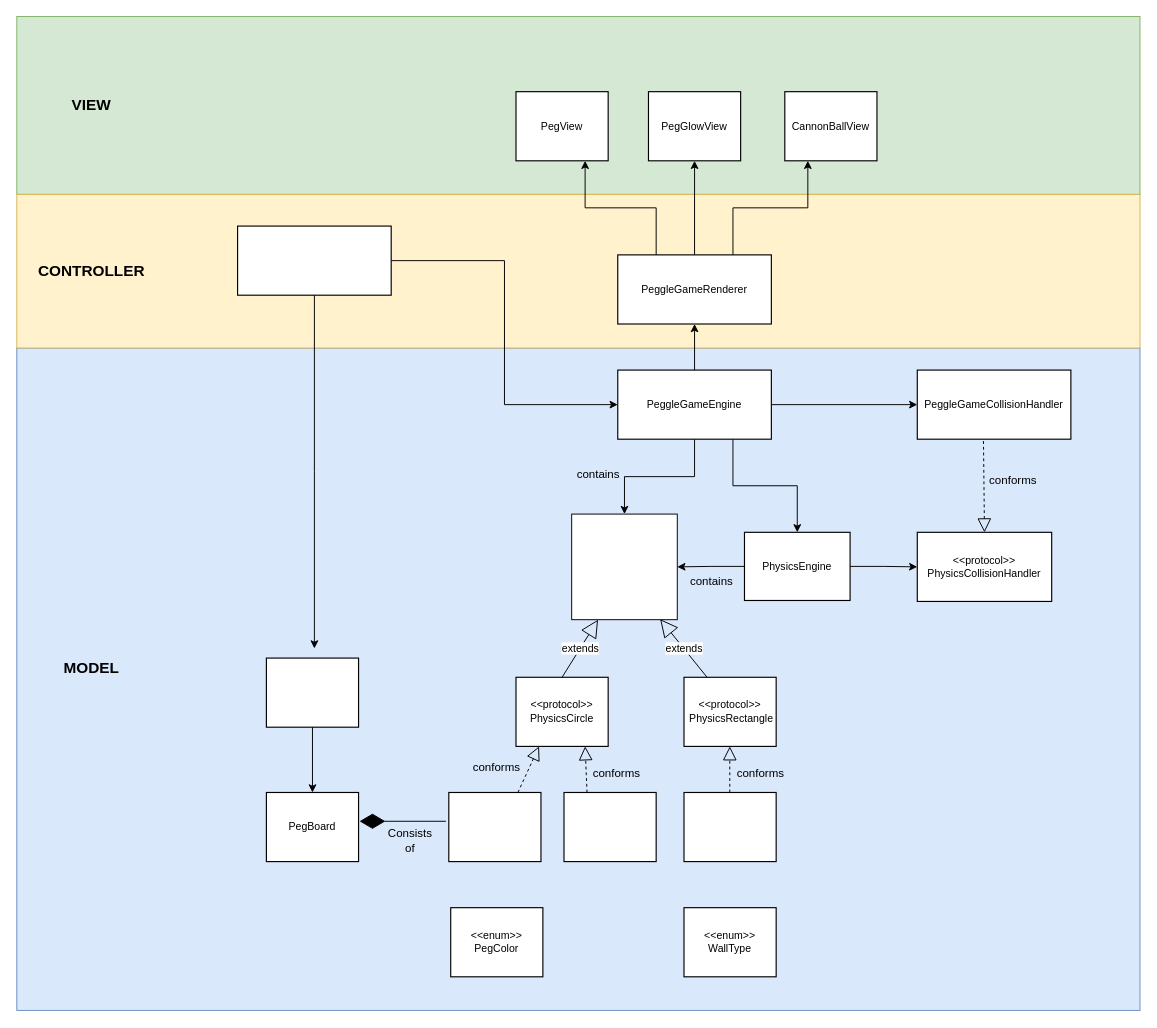
The diagram is 1157 pixels wide and 1028 high, and some of its shapes have lost their labels. The shapes that lost their labels are listed below. From the top down, each one's centre as x and y in pixels, then its label:
At point (314, 260): "PeggleGameViewController".
At point (624, 566): "<<protocol>> PhysicsObject".
At point (312, 692): "PegBoardModel".
At point (494, 826): "Peg".
At point (609, 826): "CannonBall".
At point (729, 826): "Wall".
